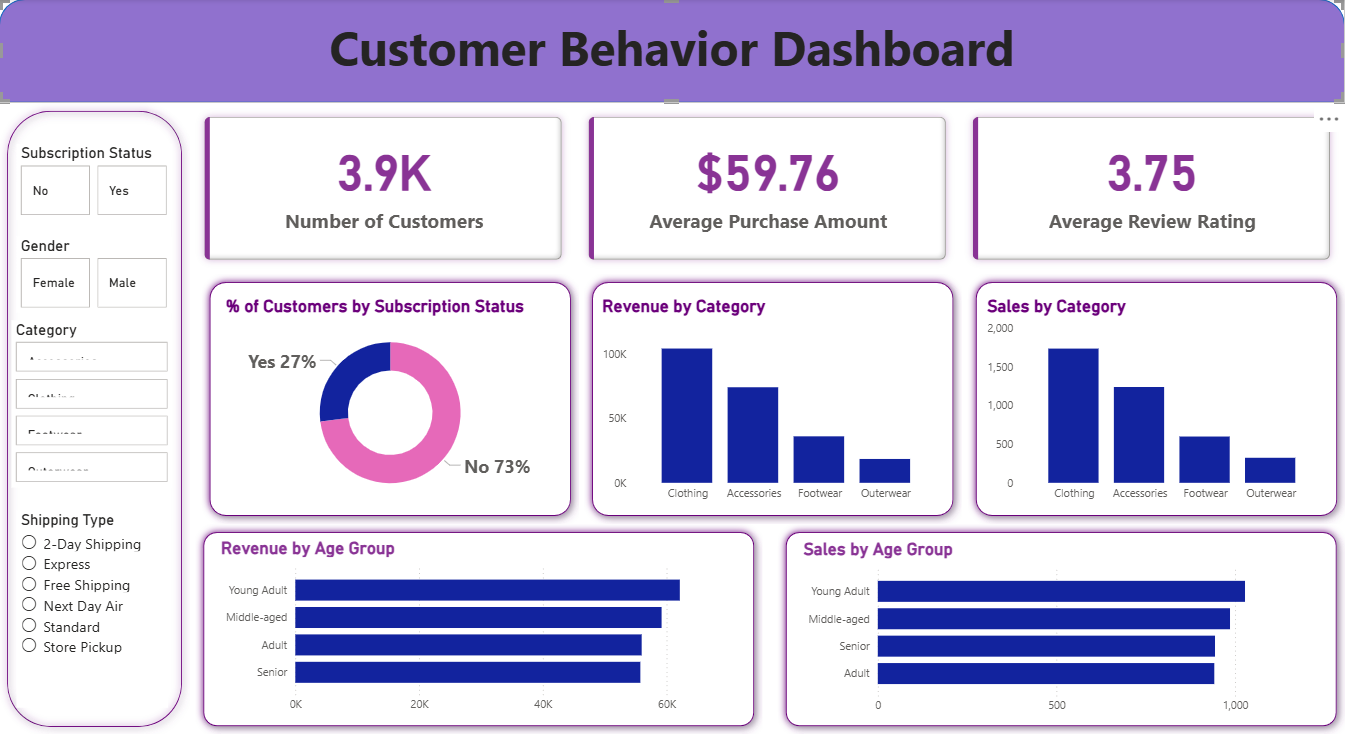

The dashboard page shown, as its layout file describes it:
{"tool":"powerbi","page":{"name":"Page 1","canvas":[1500,820],"ordinal":0},"visuals":[{"type":"cardVisual","fields":{"Data":["public customer.Number of Customers","public customer.Average Purchase Amount","public customer.Average Review Rating"]},"box":[212.9,115.3,1286.5,191.6],"z":2000},{"type":"shape","box":[218.3,585.6,631.7,234.2],"z":2500,"group":"g1"},{"type":"shape","box":[0,0,1499.4,115.3],"z":3000},{"type":"textbox","box":[0,12.4,1499.4,102.9],"z":4000},{"type":"shape","box":[225.4,307,420.5,278.6],"z":5000},{"type":"donutChart","title":"% of Customers by Subscription Status","fields":{"Category":["public customer.subscription_status"],"Y":["Sum(public customer.customer_id)"]},"box":[248.4,331.8,376.2,237.8],"z":6000},{"type":"shape","box":[1078.9,307,420.5,278.6],"z":7000},{"type":"shape","box":[652.1,307,420.5,278.6],"z":8000},{"type":"clusteredColumnChart","title":"Revenue by Category","fields":{"Y":["Sum(public customer.purchase_amount)"],"Category":["public customer.category"]},"box":[667.2,331.8,385.1,237.8],"z":9000},{"type":"clusteredColumnChart","title":"Sales by Category","fields":{"Y":["Sum(public customer.customer_id)"],"Category":["public customer.category"]},"box":[1096.6,331.8,385.1,237.8],"z":10000},{"type":"shape","box":[0,115.3,212.9,704.5],"z":11000},{"type":"advancedSlicerVisual","fields":{"Values":["public customer.subscription_status"]},"box":[19.5,161.5,173.9,85.2],"z":12000},{"type":"advancedSlicerVisual","fields":{"Values":["public customer.gender"]},"box":[19.5,264.4,173.9,85.2],"z":13000},{"type":"advancedSlicerVisual","fields":{"Values":["public customer.category"]},"box":[14.2,358.4,179.2,186.3],"z":14000},{"type":"listSlicer","fields":{"Values":["public customer.shipping_type"]},"box":[19.5,569.6,168.6,220],"z":15000},{"type":"shape","box":[867.7,585.6,631.7,234.2],"z":16000},{"type":"clusteredBarChart","title":"Sales by Age Group","fields":{"Y":["Sum(public customer.customer_id)"],"Category":["public customer.age_group"]},"box":[890.8,601.5,585.6,204.1],"z":17000},{"type":"clusteredBarChart","title":"Revenue by Age Group","fields":{"Y":["Sum(public customer.purchase_amount)"],"Category":["public customer.age_group"]},"box":[241.4,601.6,585.6,204.1],"z":17500,"group":"g1"},{"type":"group","id":"g1","title":"Group 1","box":[218.3,585.6,631.7,234.2],"z":17501}]}

Visuals, with their boxes in screenshot pixels (x1, y1, x2, y2), scaled from the page's 1500x820 canvas onto the 1345x734 screenshot:
cardVisual - public customer.Number of Customers x public customer.Average Purchase Amount: box(191, 103, 1344, 275)
shape: box(196, 524, 762, 733)
shape: box(0, 0, 1344, 103)
textbox: box(0, 11, 1344, 103)
shape: box(202, 275, 579, 524)
"% of Customers by Subscription Status" donutChart: box(223, 297, 560, 510)
shape: box(967, 275, 1344, 524)
shape: box(585, 275, 962, 524)
"Revenue by Category" clusteredColumnChart: box(598, 297, 944, 510)
"Sales by Category" clusteredColumnChart: box(983, 297, 1329, 510)
shape: box(0, 103, 191, 733)
advancedSlicerVisual - public customer.subscription_status: box(17, 145, 173, 221)
advancedSlicerVisual - public customer.gender: box(17, 237, 173, 313)
advancedSlicerVisual - public customer.category: box(13, 321, 173, 488)
listSlicer - public customer.shipping_type: box(17, 510, 169, 707)
shape: box(778, 524, 1344, 733)
"Sales by Age Group" clusteredBarChart: box(799, 538, 1324, 721)
"Revenue by Age Group" clusteredBarChart: box(216, 539, 742, 721)
"Group 1" group: box(196, 524, 762, 733)
